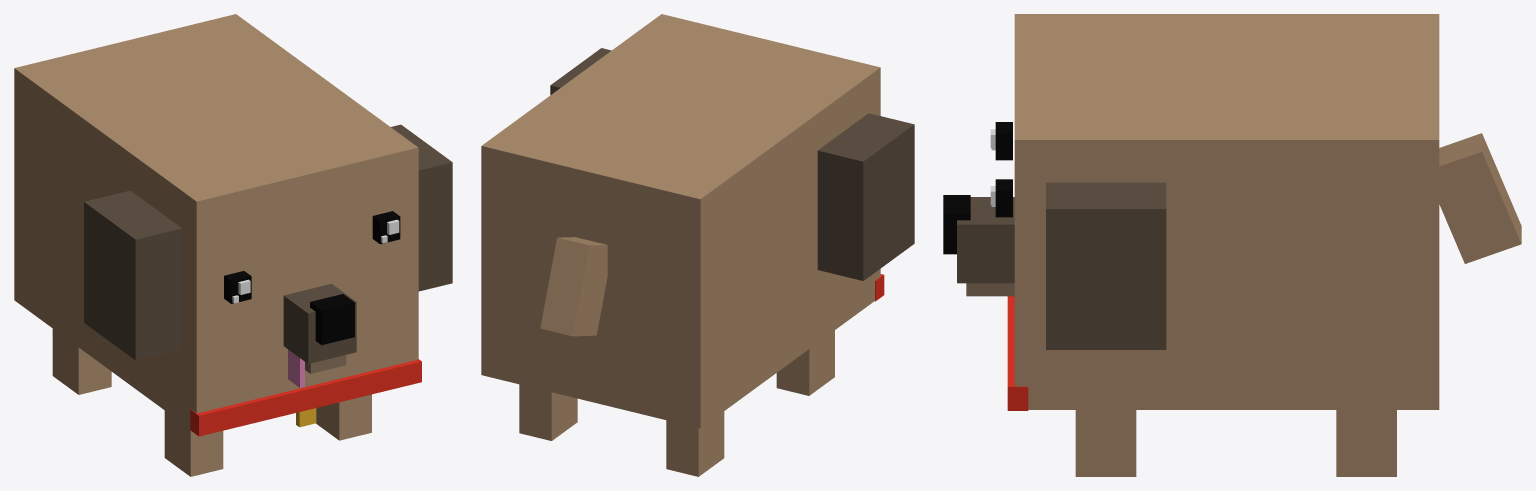
File: Perreteeee.fbx
3 views of the same model, side by side, from view 1: azimuth 30°, elevation 25°; view 2: azimuth 150°, elevation 25°; view 3: azimuth 270°, elevation 25° (orthographic). The views are drawn at different scales.
Visible parts, largest first — view 1: Cube.003; view 2: Cube.003; view 3: Cube.003.
Part boxes in pixels (x1,y1,x2,y2): Cube.003: (14, 14, 452, 476); Cube.003: (481, 14, 914, 476); Cube.003: (943, 14, 1521, 476).
Bounding box in the file's own units: 239 × 216 × 324.
